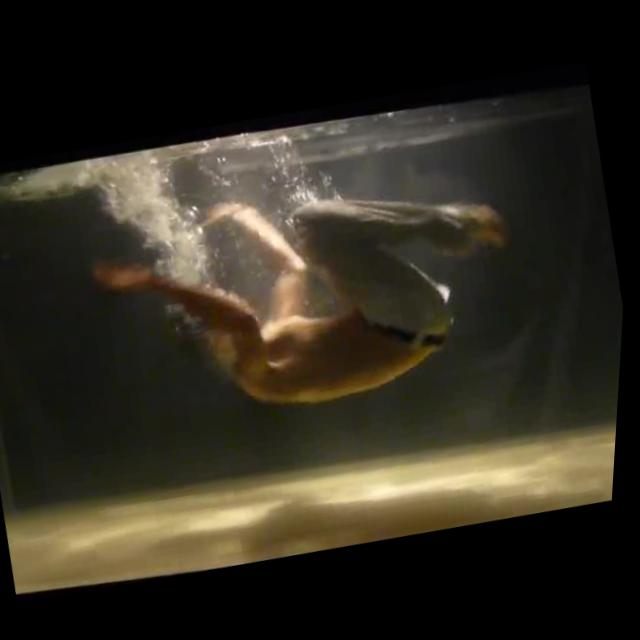human: (73, 137, 546, 453)
